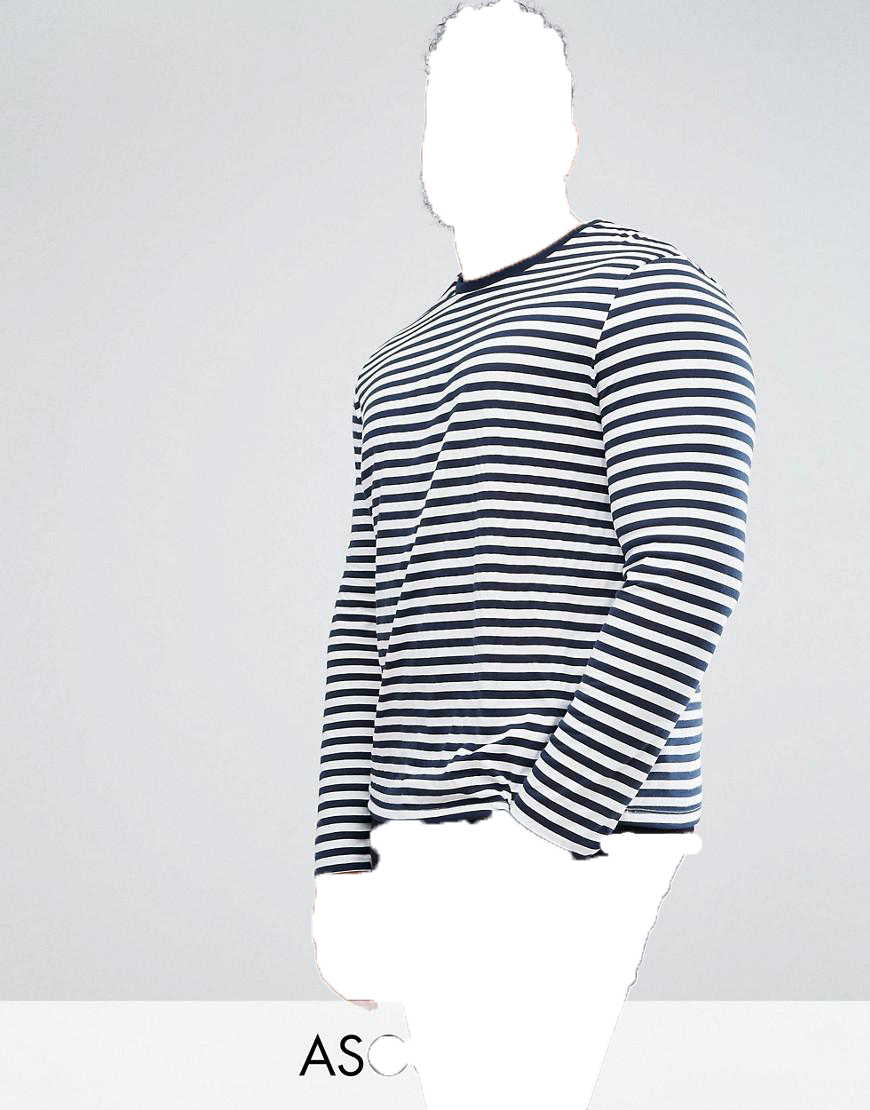teeshirt: (312, 224, 759, 920)
